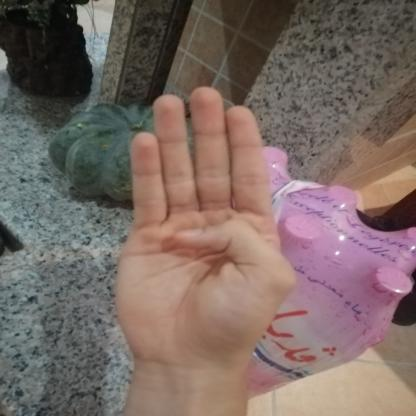KAAF: (89, 75, 318, 385)
